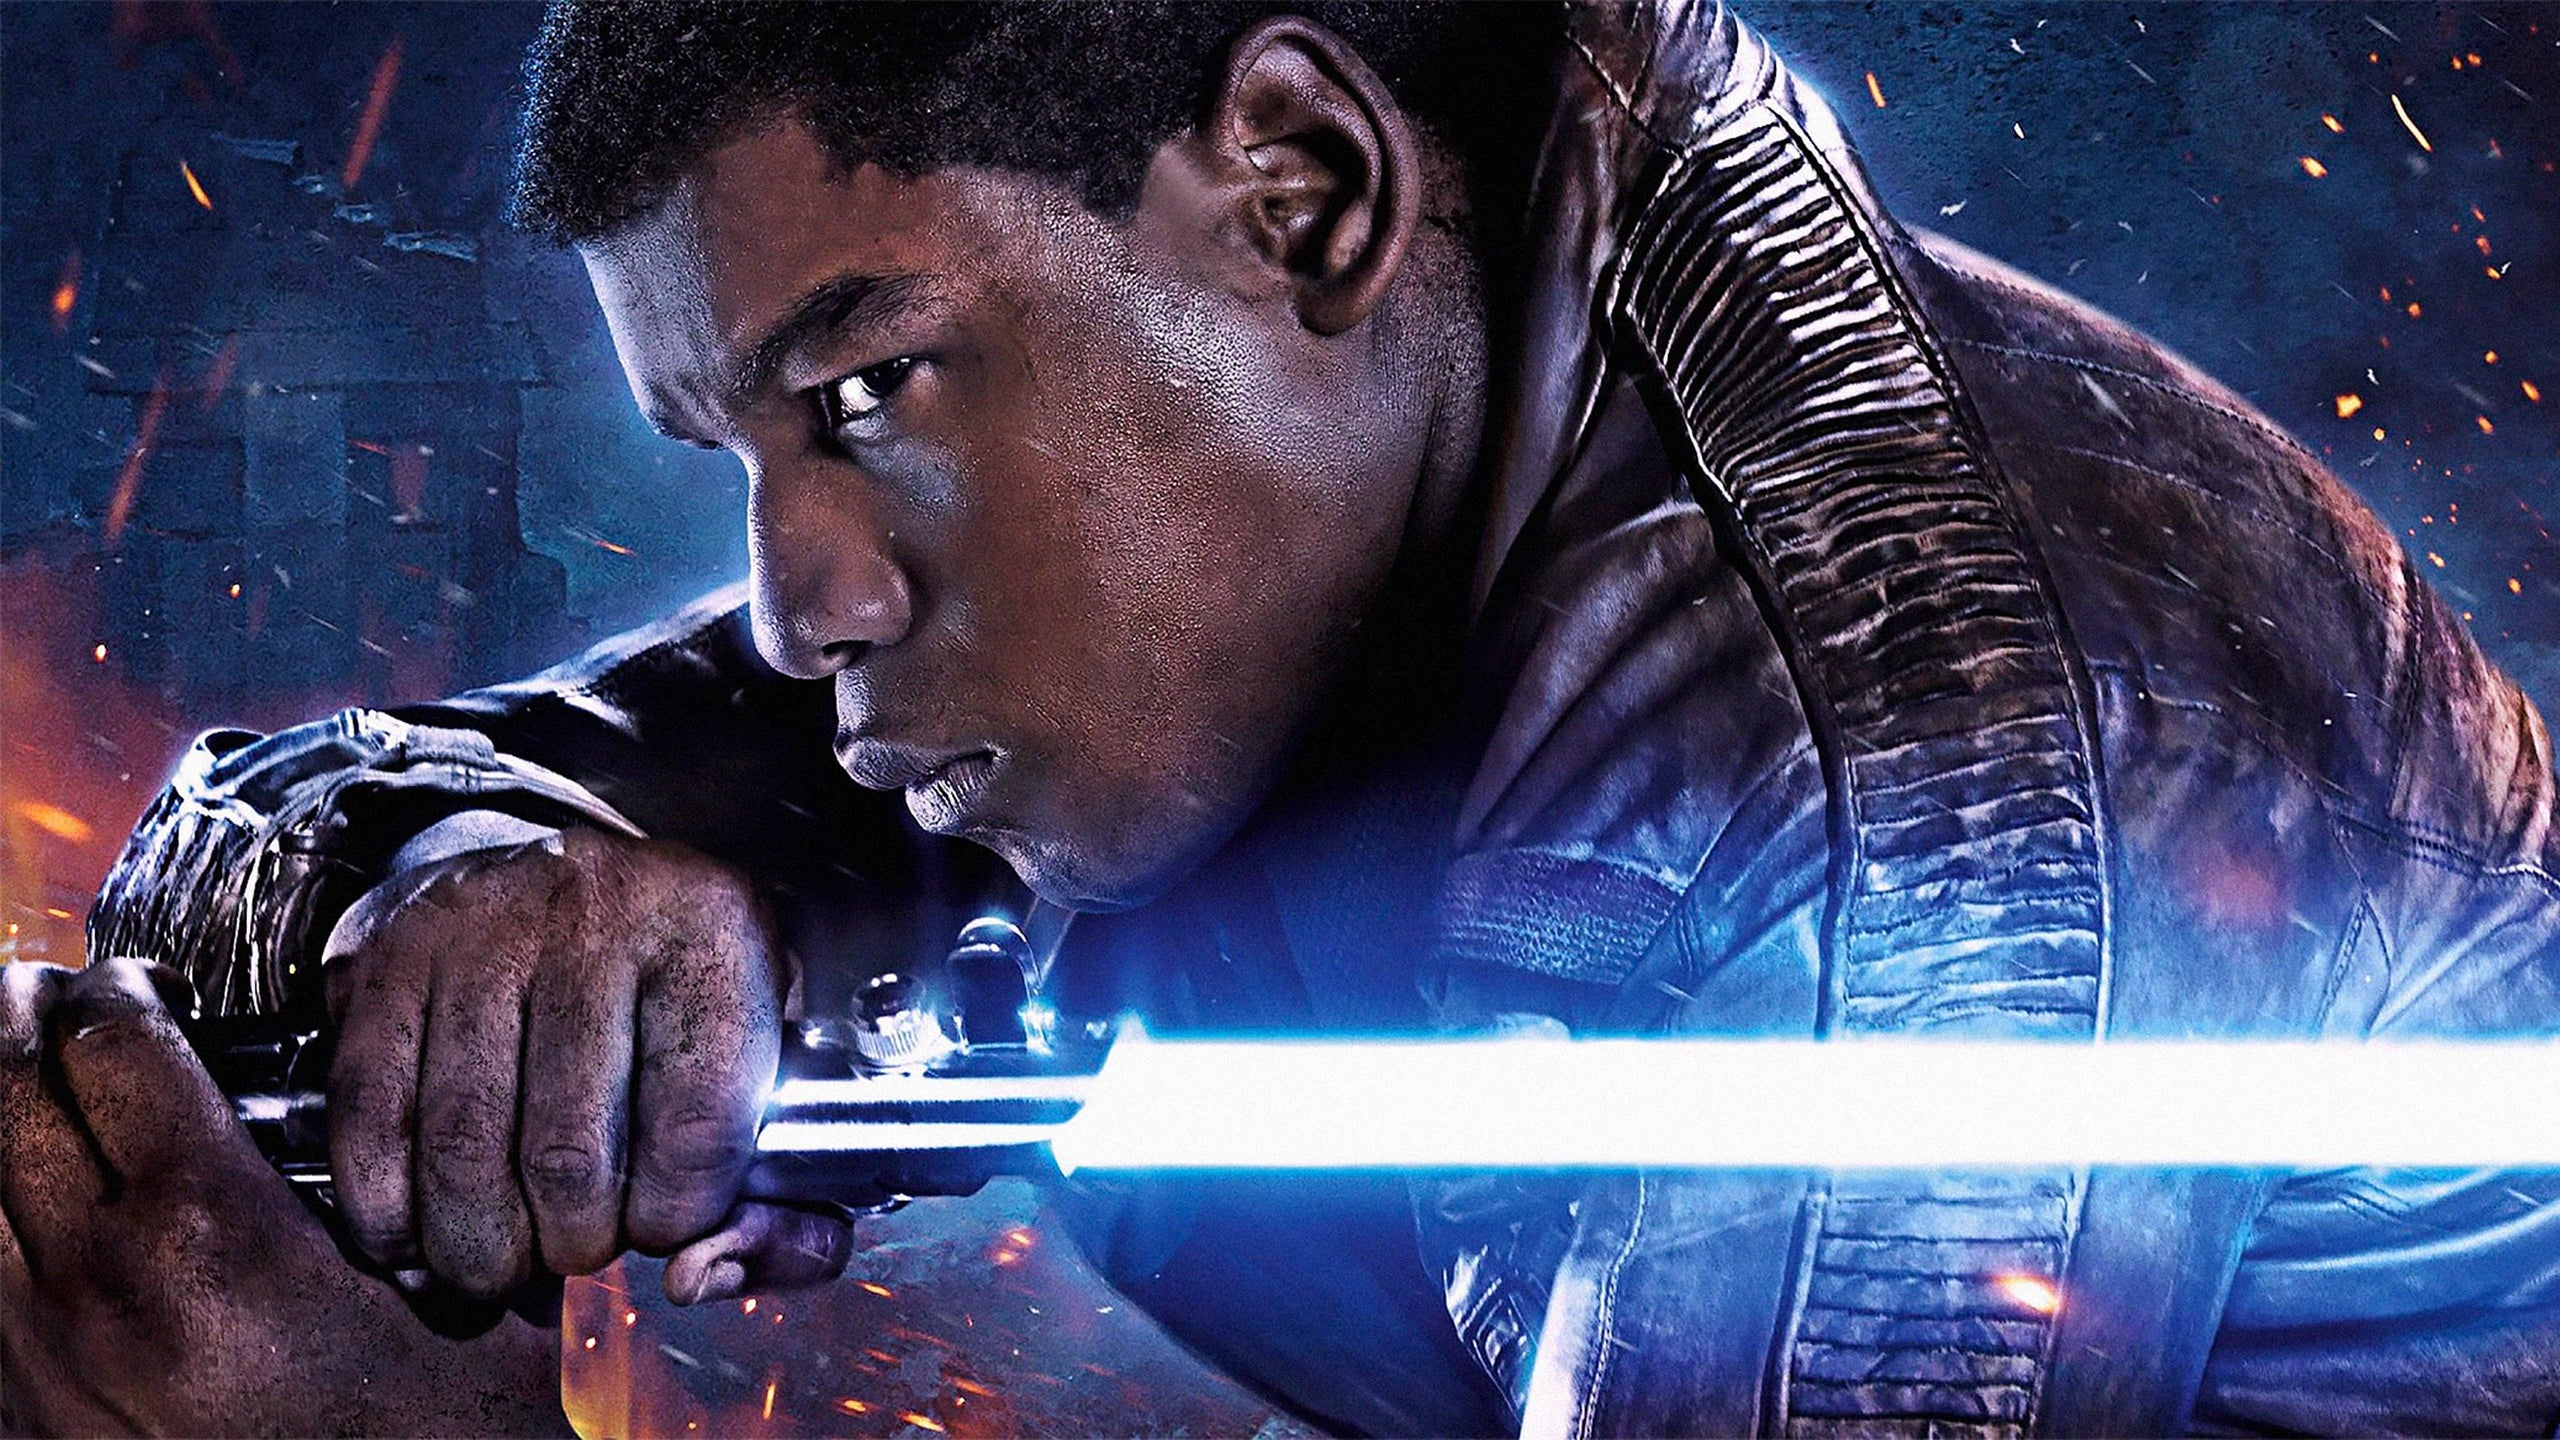lightsaber: (141, 918, 2560, 1342)
